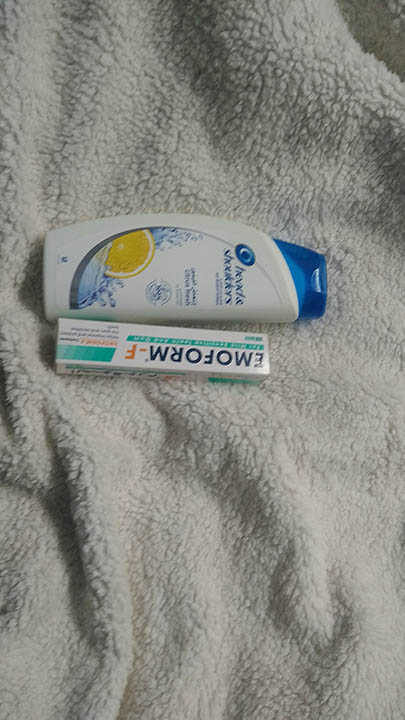Toothpaste-F 1.5$: (40, 315, 288, 384)
shampoo-Lemon 3.5$: (38, 219, 342, 324)
